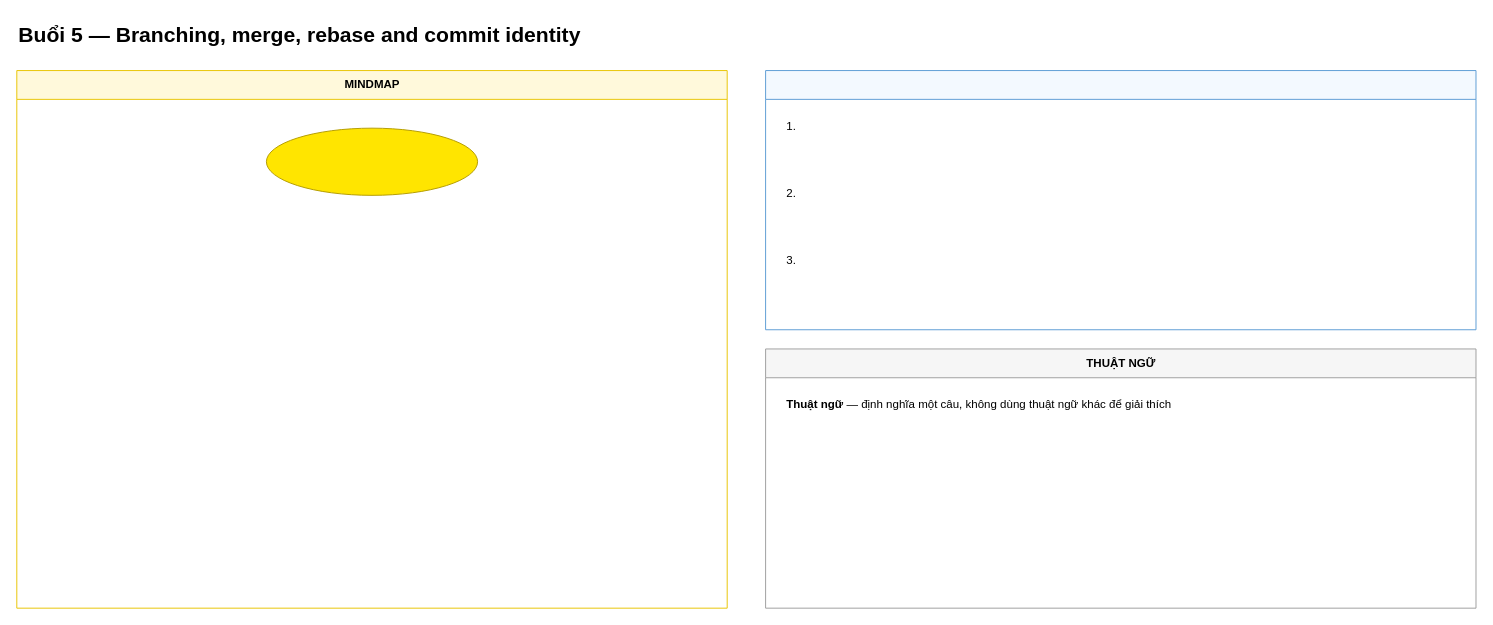
Image size: 1493x625. Some labels were removed from this diagram. The box of each missing label's shape, as (x1, y1, x2, y2) in pixels:
Branching, merge, rebase and commit identity: (265, 127, 478, 195)
KEY TAKEAWAY — ba điều phải nhớ: (765, 70, 1476, 330)
